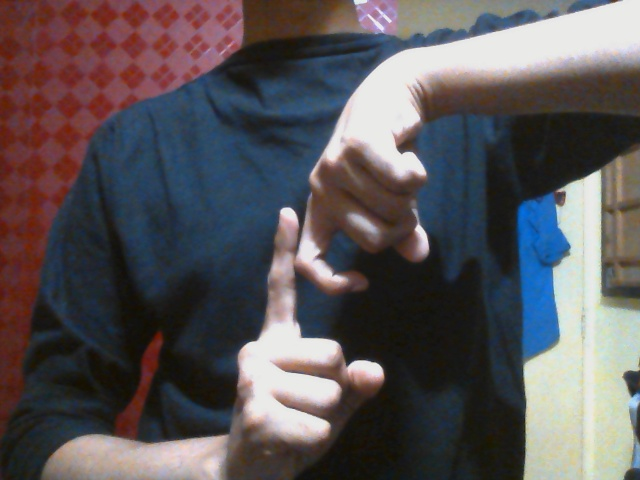K: (227, 135, 427, 464)
